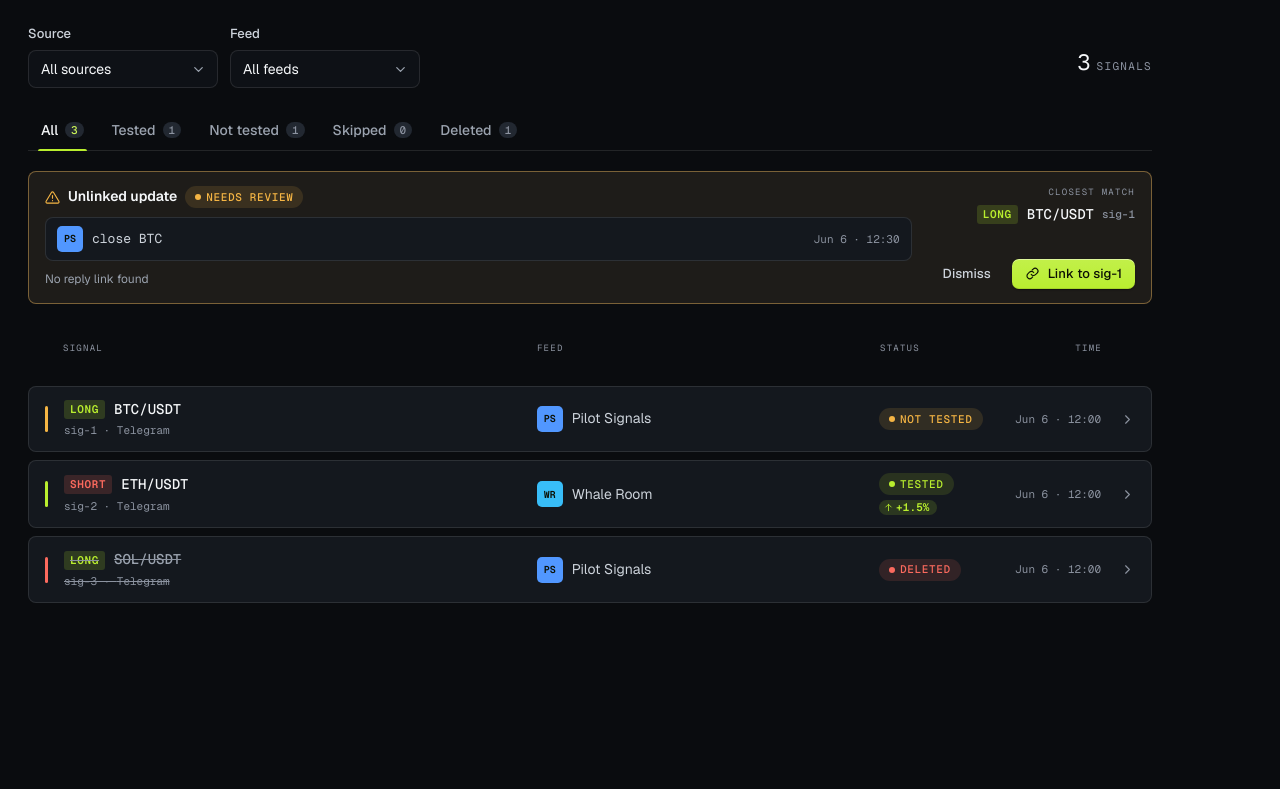
Test case: SignalsView › expands a signal detail with original raw text
The width and height of the screenshot is (1280, 789).
Click the button "BTC/USDT": (590, 419) [28,386,1152,452]
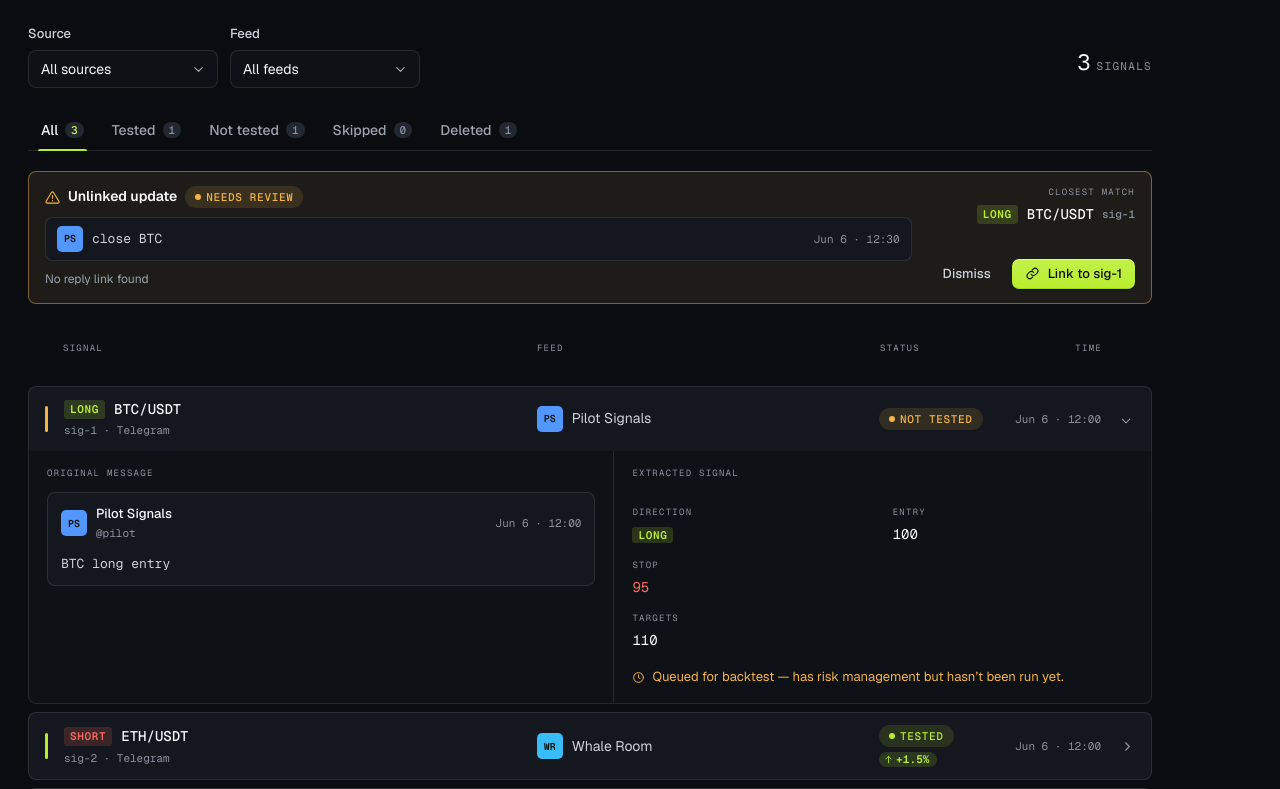
Result: the text "Original message" is shown at [47,467,154,479]
Result: the text "BTC long entry" is shown at [61,554,170,572]
Result: the text "Queued for backtest" is shown at [652,668,1064,685]
